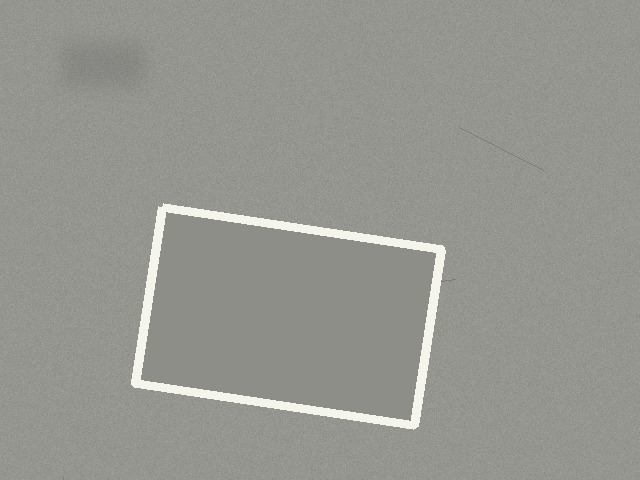parking_area: (135, 207, 441, 425)
